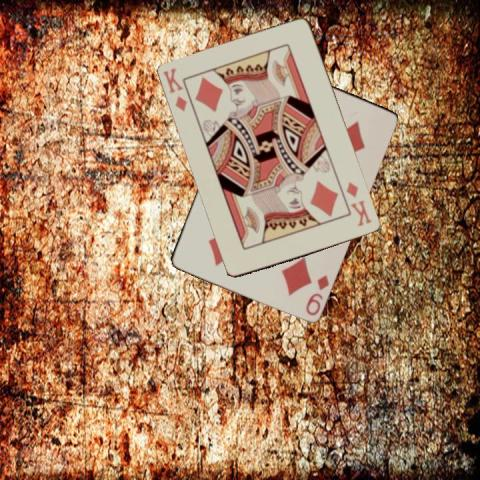9d: (302, 271, 330, 317)
Kd: (160, 65, 197, 115), (343, 179, 374, 228)
